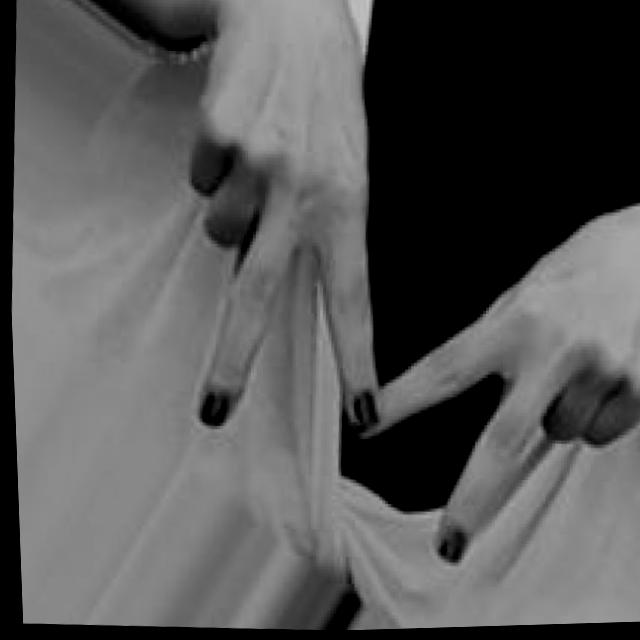M: (162, 0, 640, 577)
